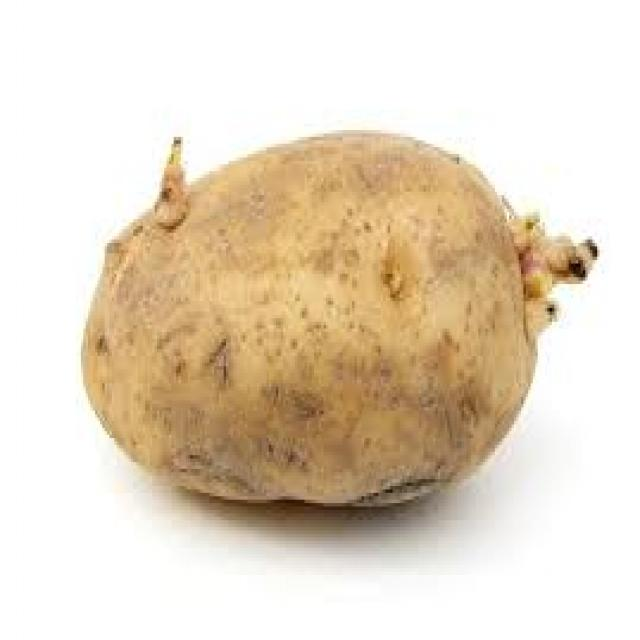Potato: (83, 133, 597, 505)
